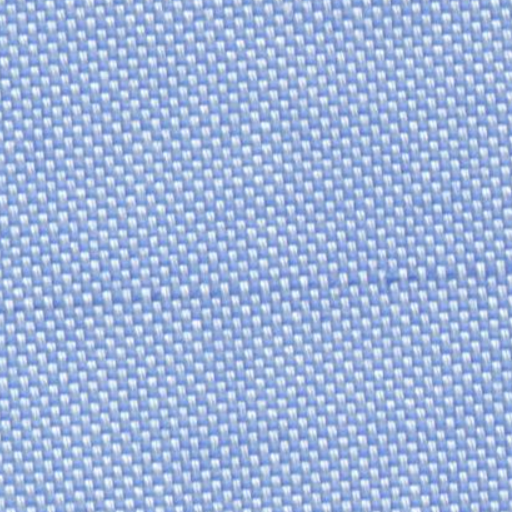TuoSha: (12, 246, 502, 332)
